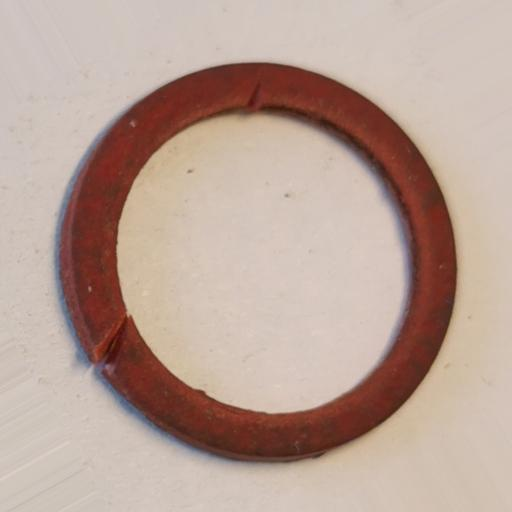defect: (94, 320, 129, 371), (246, 81, 265, 110)
